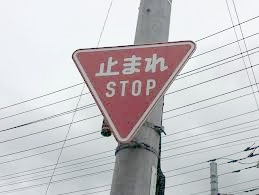Regulatory_sign_triangle: (67, 34, 195, 147)
